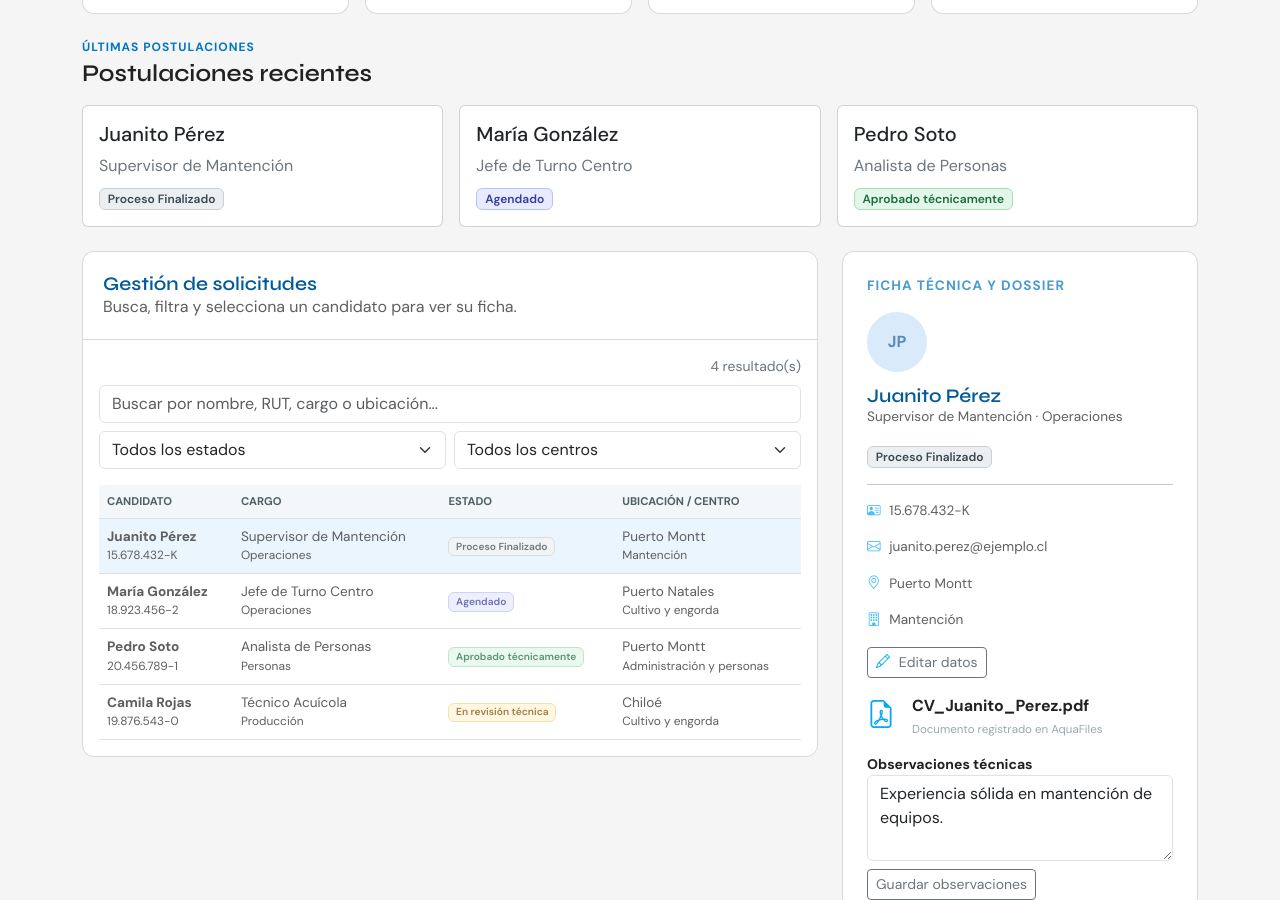
Flujo del proceso › el supervisor filtra por estado
The width and height of the screenshot is (1280, 900).
(page scrolled)
Select "En revisión técnica" in the 1st dropdown named "filtrar por estado" at (272, 450), box [99,431,446,469]
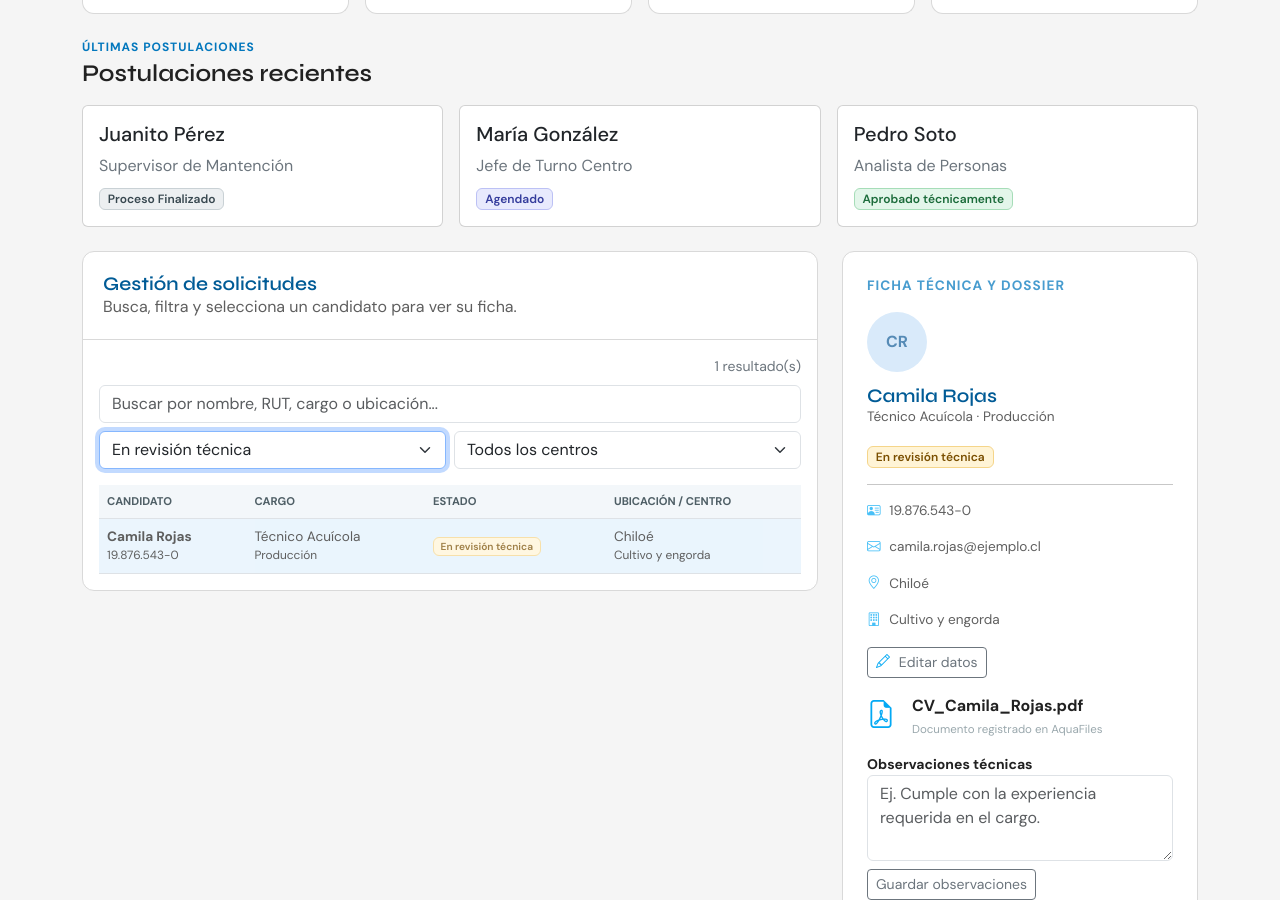
Expected: the row "Camila Rojas" is shown, [99,518,801,574]
Now the text "1 resultado(s)" is shown, box [714,356,801,377]
